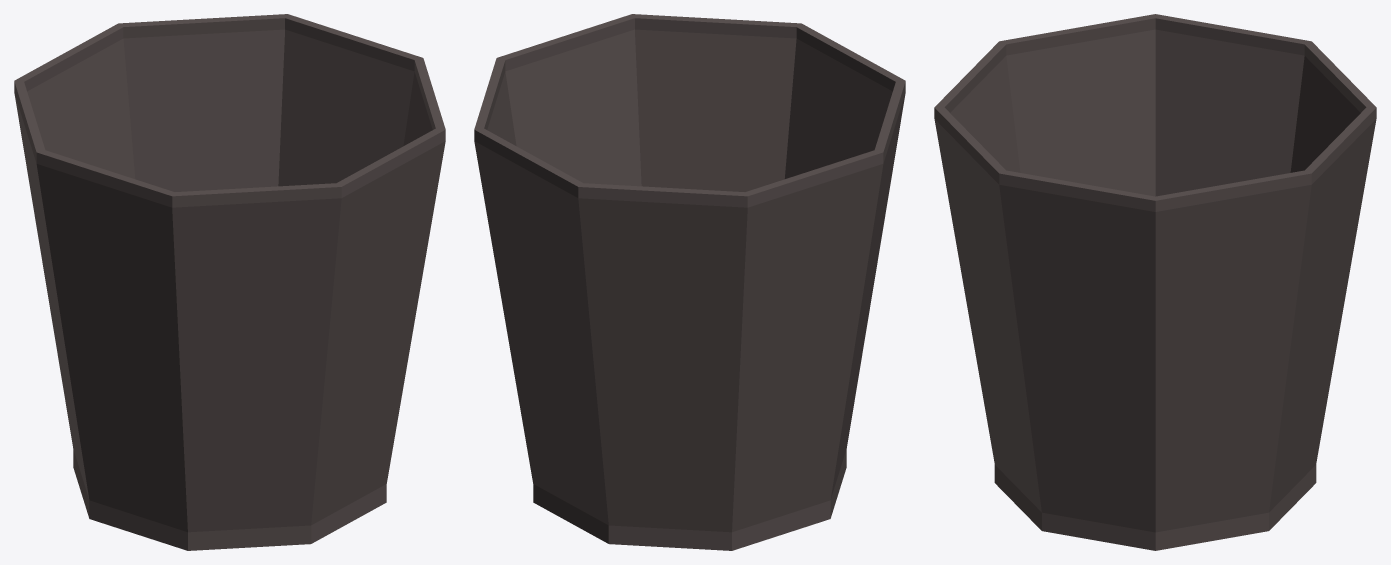
File: Trash.fbx
The picture shows the model from 3 angles, left to right: view 1: azimuth 30°, elevation 25°; view 2: azimuth 150°, elevation 25°; view 3: azimuth 270°, elevation 25°; orthographic projection.
Visible parts, largest first — view 1: Icosphere.008; view 2: Icosphere.008; view 3: Icosphere.008.
Part boxes in pixels (x1,y1,x2,y2): Icosphere.008: [14, 14, 445, 550]; Icosphere.008: [474, 14, 905, 550]; Icosphere.008: [934, 14, 1376, 550].
Bounding box in the file's own units: 91.99 × 86.23 × 91.99.
1 material, 1 textured.
